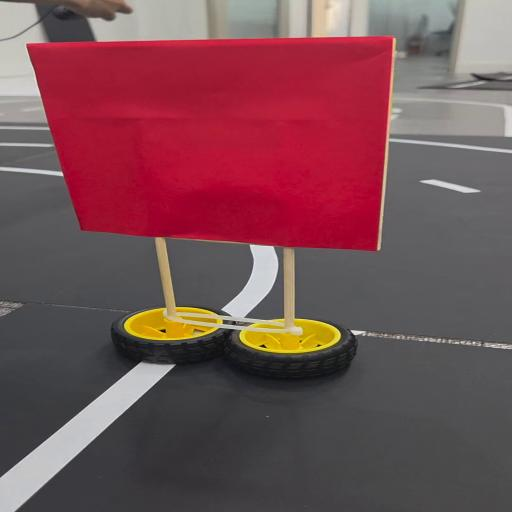Sign_A: (22, 33, 413, 380)
